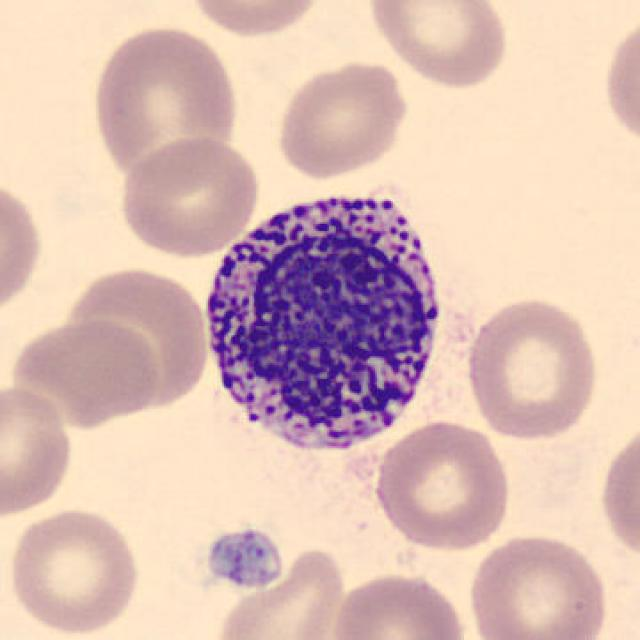Basophil: (190, 173, 459, 467)
Platelets: (203, 526, 286, 592)
RBC: (87, 21, 242, 182), (62, 263, 212, 416), (462, 292, 603, 442), (370, 418, 514, 554), (4, 502, 144, 638), (114, 134, 263, 259), (272, 56, 412, 182), (7, 316, 162, 428), (464, 529, 612, 640), (208, 541, 352, 640), (363, 0, 512, 92), (0, 380, 76, 516), (327, 569, 471, 640), (0, 173, 46, 326), (595, 416, 640, 571), (202, 524, 292, 596), (599, 9, 640, 157), (183, 0, 327, 41)
